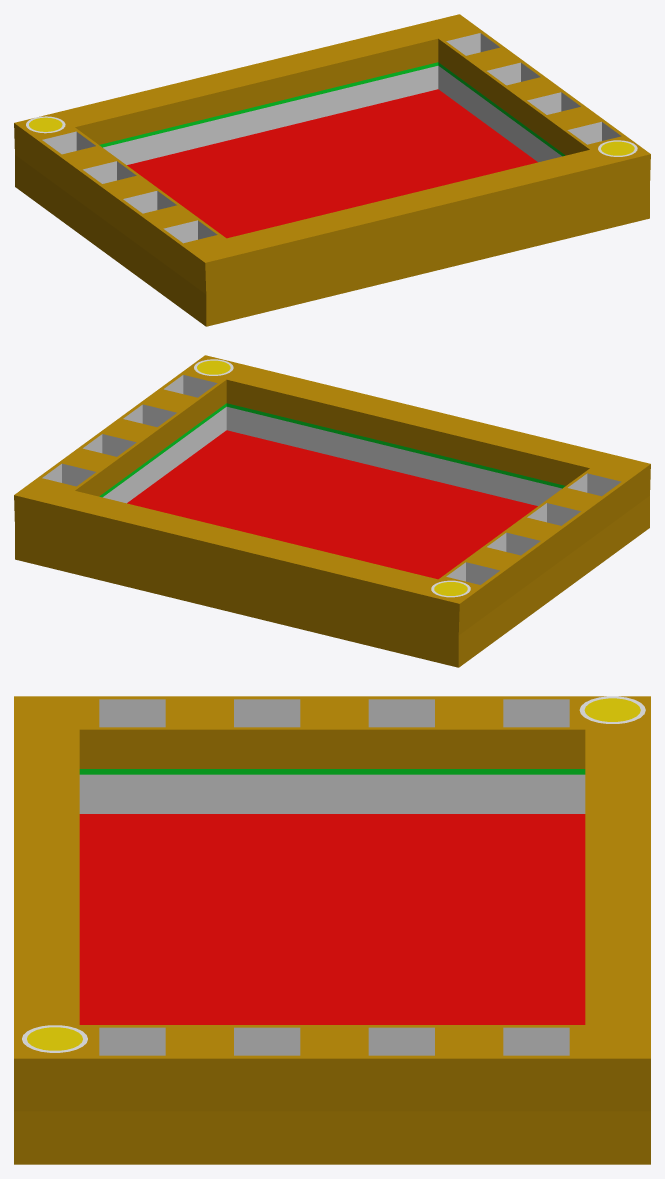
File: game_tabletcha (2).fbx
3 renders of one model, top to bottom at view 1: azimuth 30°, elevation 25°; view 2: azimuth 150°, elevation 25°; view 3: azimuth 270°, elevation 25°, orthographic. The views are drawn at different scales.
Visible parts, largest first — view 1: Cube, Cube.008, Cube.002, Cube.004, Cube.006, Cube.007, Cube.005, Cube.001, Cube.003, Circle.000, Circle.001; view 2: Cube, Cube.005, Cube.001, Cube.003, Cube.008, Cube.004, Cube.006, Cube.002, Cube.007, Circle.000, Circle.001; view 3: Cube, Cube.001, Cube.002, Cube.006, Cube.008, Cube.003, Cube.004, Cube.005, Cube.007, Circle.001, Circle.000.
Boxes of the visible parts, <box> form: Cube: <box>14,14,650,326</box>; Cube.008: <box>163,220,217,243</box>; Cube.002: <box>567,121,621,144</box>; Cube.004: <box>487,62,540,85</box>; Cube.006: <box>42,131,95,154</box>; Cube.007: <box>123,190,176,213</box>; Cube.005: <box>83,161,136,183</box>; Cube.001: <box>446,33,499,55</box>; Cube.003: <box>527,92,580,114</box>; Circle.000: <box>26,116,65,133</box>; Circle.001: <box>598,140,637,156</box>; Cube: <box>14,355,650,667</box>; Cube.005: <box>487,532,540,555</box>; Cube.001: <box>42,463,95,486</box>; Cube.003: <box>123,404,176,427</box>; Cube.008: <box>568,473,621,496</box>; Cube.004: <box>83,434,136,456</box>; Cube.006: <box>446,562,499,584</box>; Cube.002: <box>164,375,217,397</box>; Cube.007: <box>527,503,580,525</box>; Circle.000: <box>431,580,470,597</box>; Circle.001: <box>194,359,233,375</box>; Cube: <box>14,696,650,1164</box>; Cube.001: <box>503,1027,569,1055</box>; Cube.002: <box>99,1027,165,1055</box>; Cube.006: <box>503,699,569,727</box>; Cube.008: <box>99,699,165,727</box>; Cube.003: <box>234,1027,300,1055</box>; Cube.004: <box>368,1027,434,1055</box>; Cube.005: <box>368,699,434,727</box>; Cube.007: <box>234,699,300,727</box>; Circle.001: <box>22,1025,87,1052</box>; Circle.000: <box>579,696,645,723</box>.
Size of the model in its own units: 2067 by 291 by 1536.
